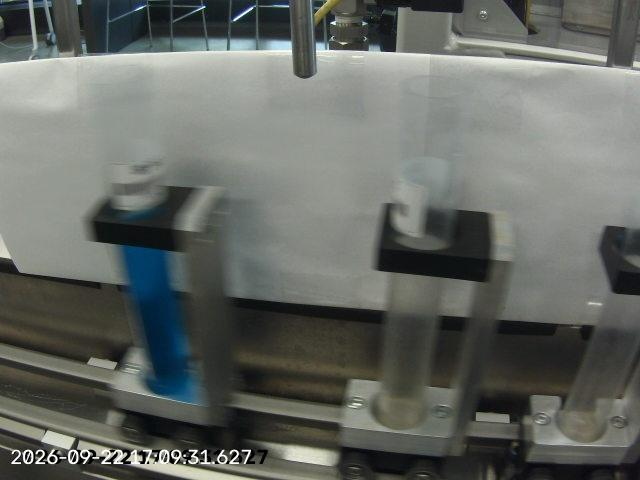vial: (375, 74, 472, 427), (86, 62, 189, 394)
